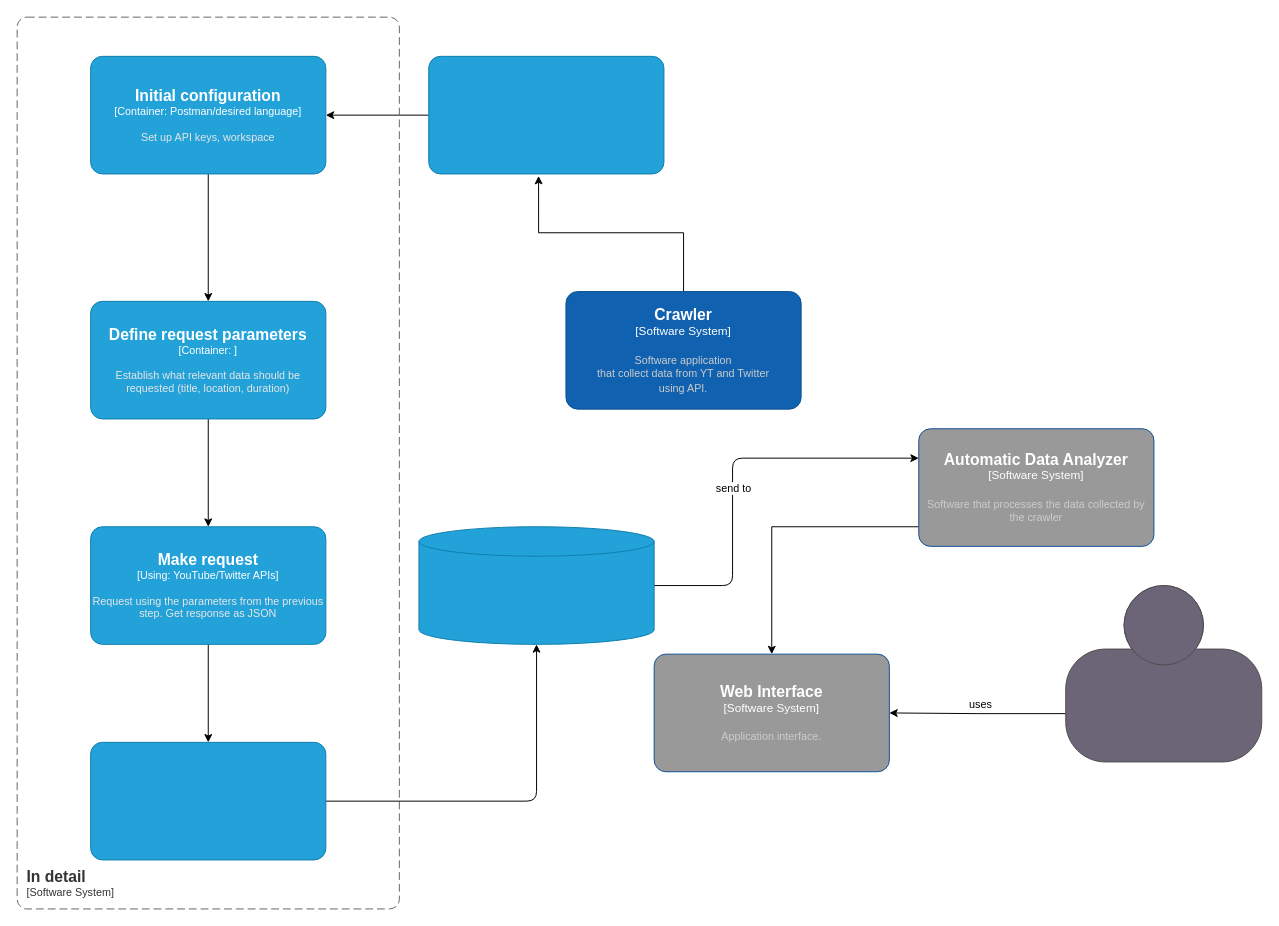
The diagram is 1279 pixels wide and 926 high, and some of its shapes have lost their labels. Here are the shapes that lost their labels. From the top down, the centre of each, then its label:
(x=546, y=114): YouTube/Twitter APIs [Language: PHP] Request data using the APIs
(x=536, y=585): Database [DB: Oracle Database 12]
(x=1163, y=673): Doctor [Person] Doctor that checks if the collected data is correct
(x=208, y=800): Organize data for DB [Database: DB]
